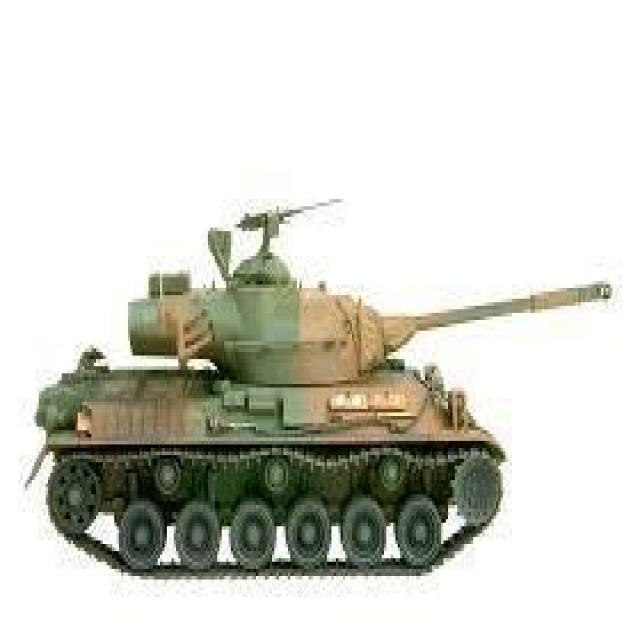Tanks: (39, 196, 514, 576)
